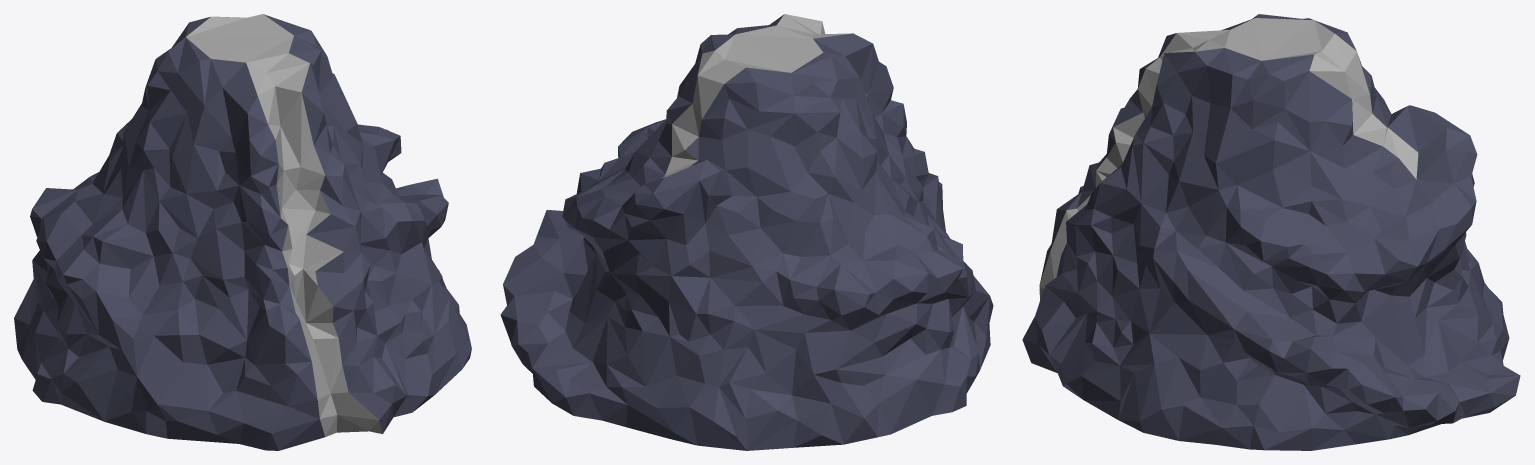
The model's file is Volcano.fbx.
3 views of the same model, side by side, from view 1: azimuth 30°, elevation 25°; view 2: azimuth 150°, elevation 25°; view 3: azimuth 270°, elevation 25° (orthographic). The views are drawn at different scales.
Parts seen in each view (by area): view 1: Group101; view 2: Group101; view 3: Group101.
Part boxes in pixels (<box>): Group101: <box>14,14,471,450</box>; Group101: <box>500,14,993,450</box>; Group101: <box>1022,14,1520,450</box>.
Size of the model in its own units: 3145 by 2288 by 3187.
